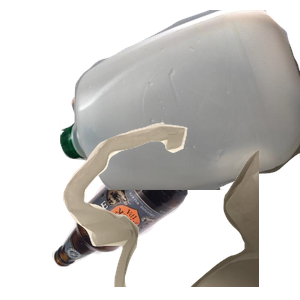glass: (49, 145, 229, 300)
metal: (69, 58, 300, 238)
plastic: (60, 10, 300, 190)
trash: (60, 120, 300, 300)
